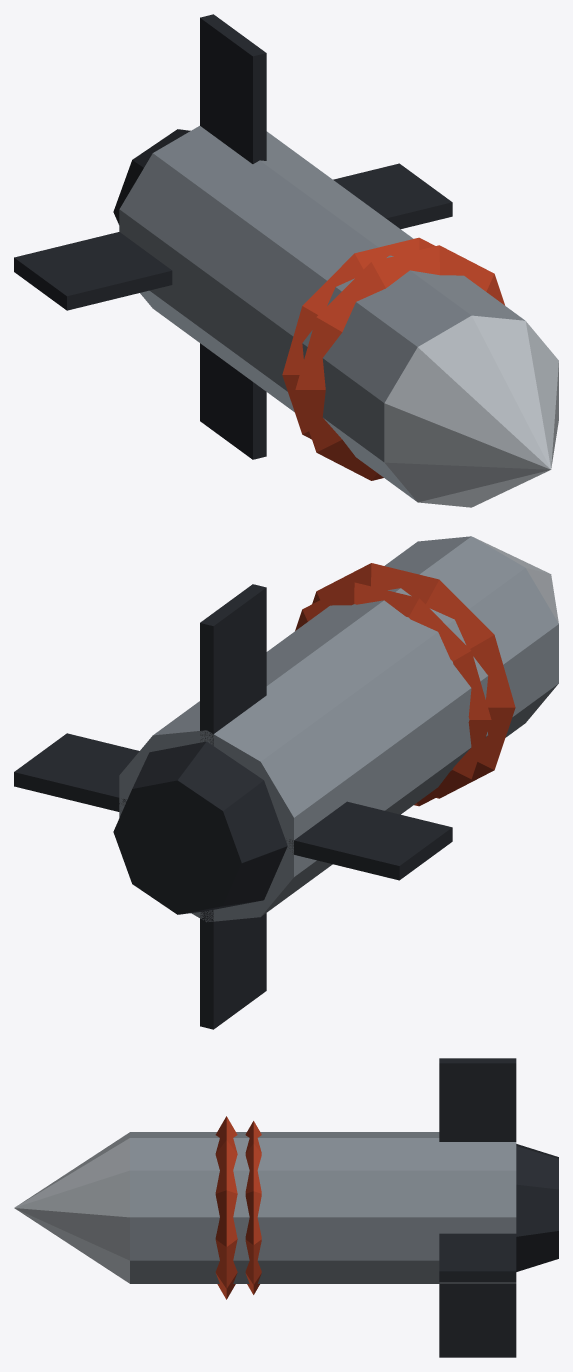
The model's file is rocket-incendiary.glb.
The picture shows the model from 3 angles, top to bottom: view 1: azimuth 30°, elevation 25°; view 2: azimuth 150°, elevation 25°; view 3: azimuth 270°, elevation 25°; orthographic projection. The views are drawn at different scales.
Visible parts, largest first — view 1: m; view 2: m; view 3: m.
Boxes of the visible parts, x1,y1,x2,y2 form: m: (14, 14, 558, 507); m: (14, 536, 558, 1029); m: (14, 1058, 558, 1357).
Size of the model in its own units: 0.0968 by 0.0968 by 0.1625.
